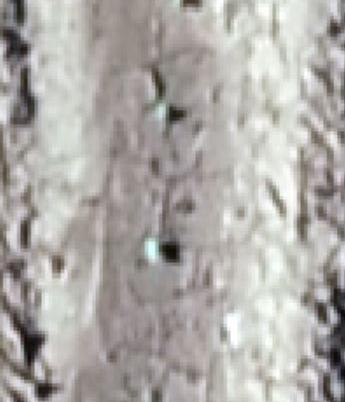cotton: (147, 238, 160, 256), (158, 102, 168, 117)
